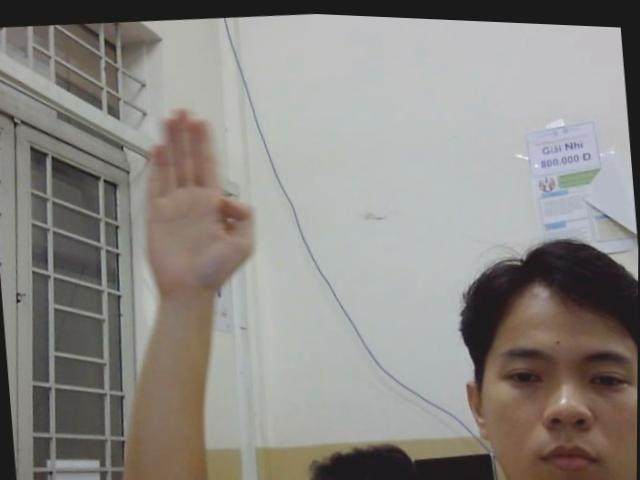B: (117, 87, 270, 304)
